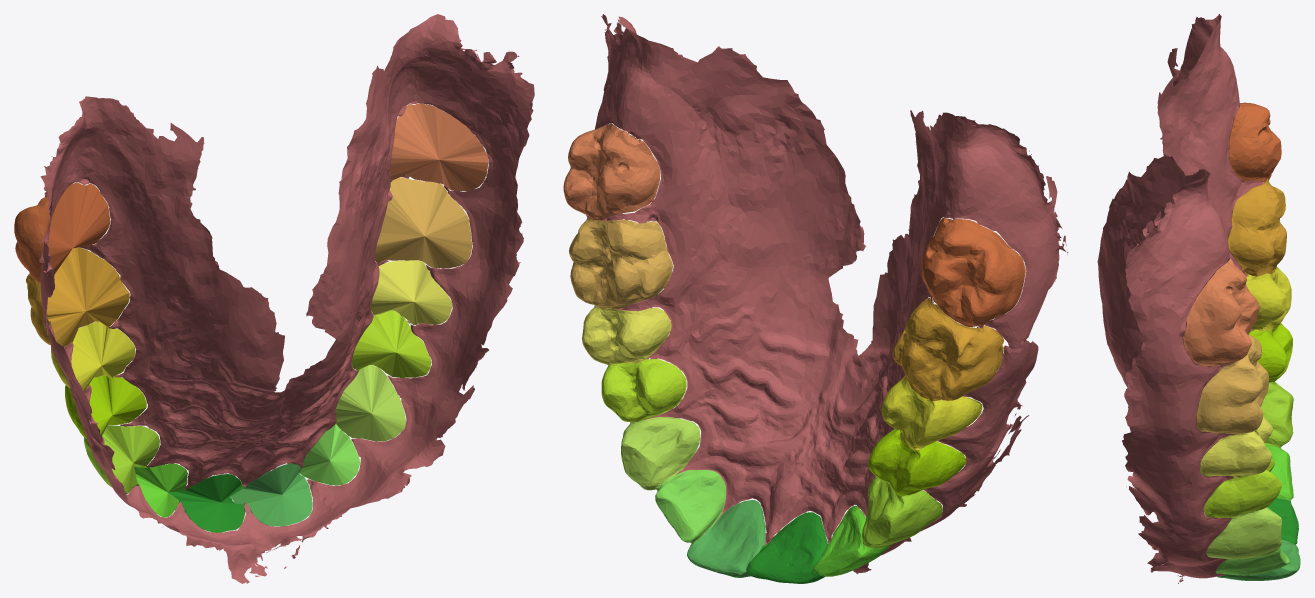
File: upper_50k.obj
The picture shows the model from 3 angles, left to right: view 1: azimuth 30°, elevation 25°; view 2: azimuth 150°, elevation 25°; view 3: azimuth 270°, elevation 25°; orthographic projection. The views are drawn at different scales.
Size of the model in its own units: 64.73 by 65.8 by 24.79.
